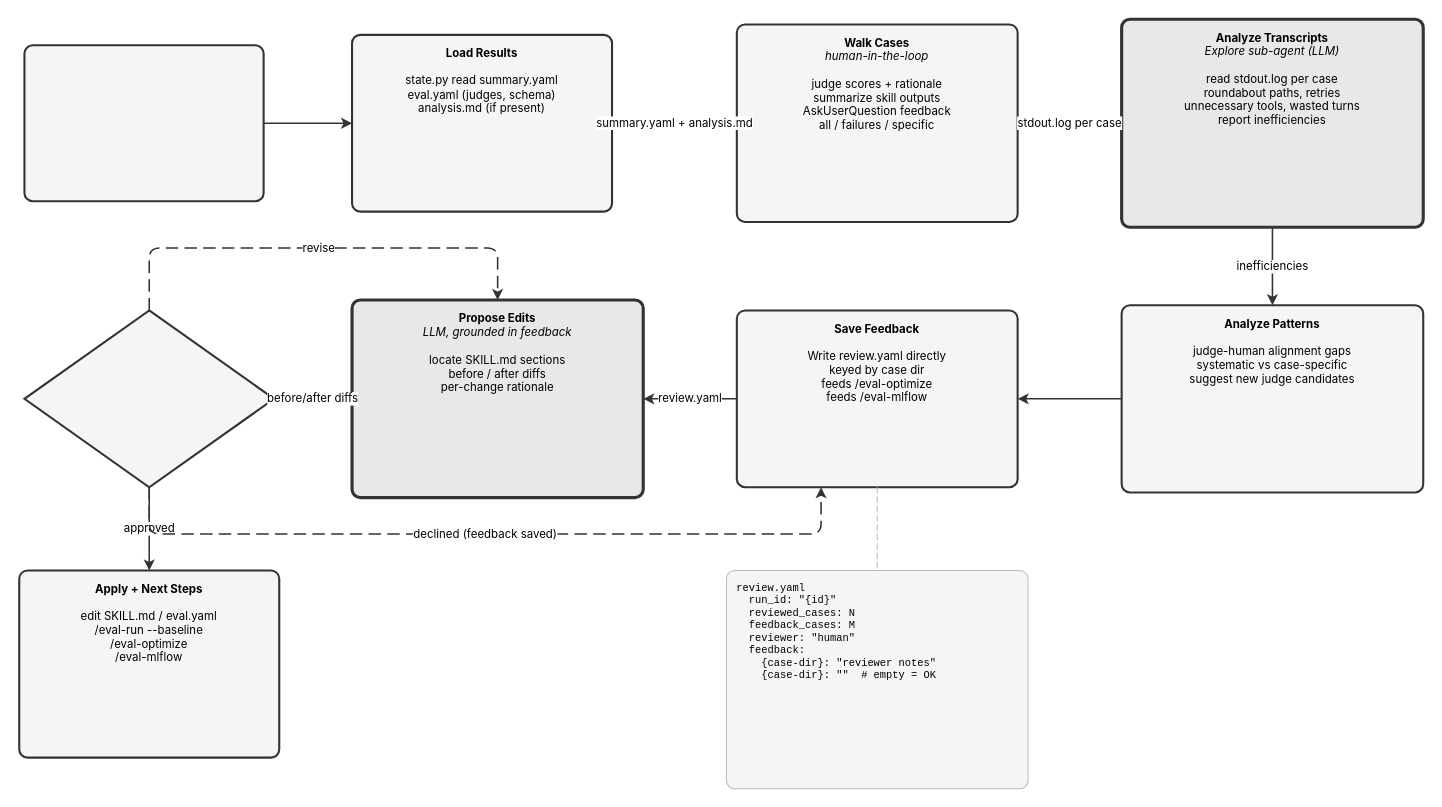
The diagram is 1442 pixels wide and 807 high, and some of its shapes have lost their labels. The shapes that lost their labels are listed below. From the top down, each one's box as (x1, y1, x2, y2) in pixels, then its label:
(23, 44, 264, 202): /eval-review --run-id {id} (required) --config {path} --cases {name}...
(23, 309, 275, 488): Approve edits?
